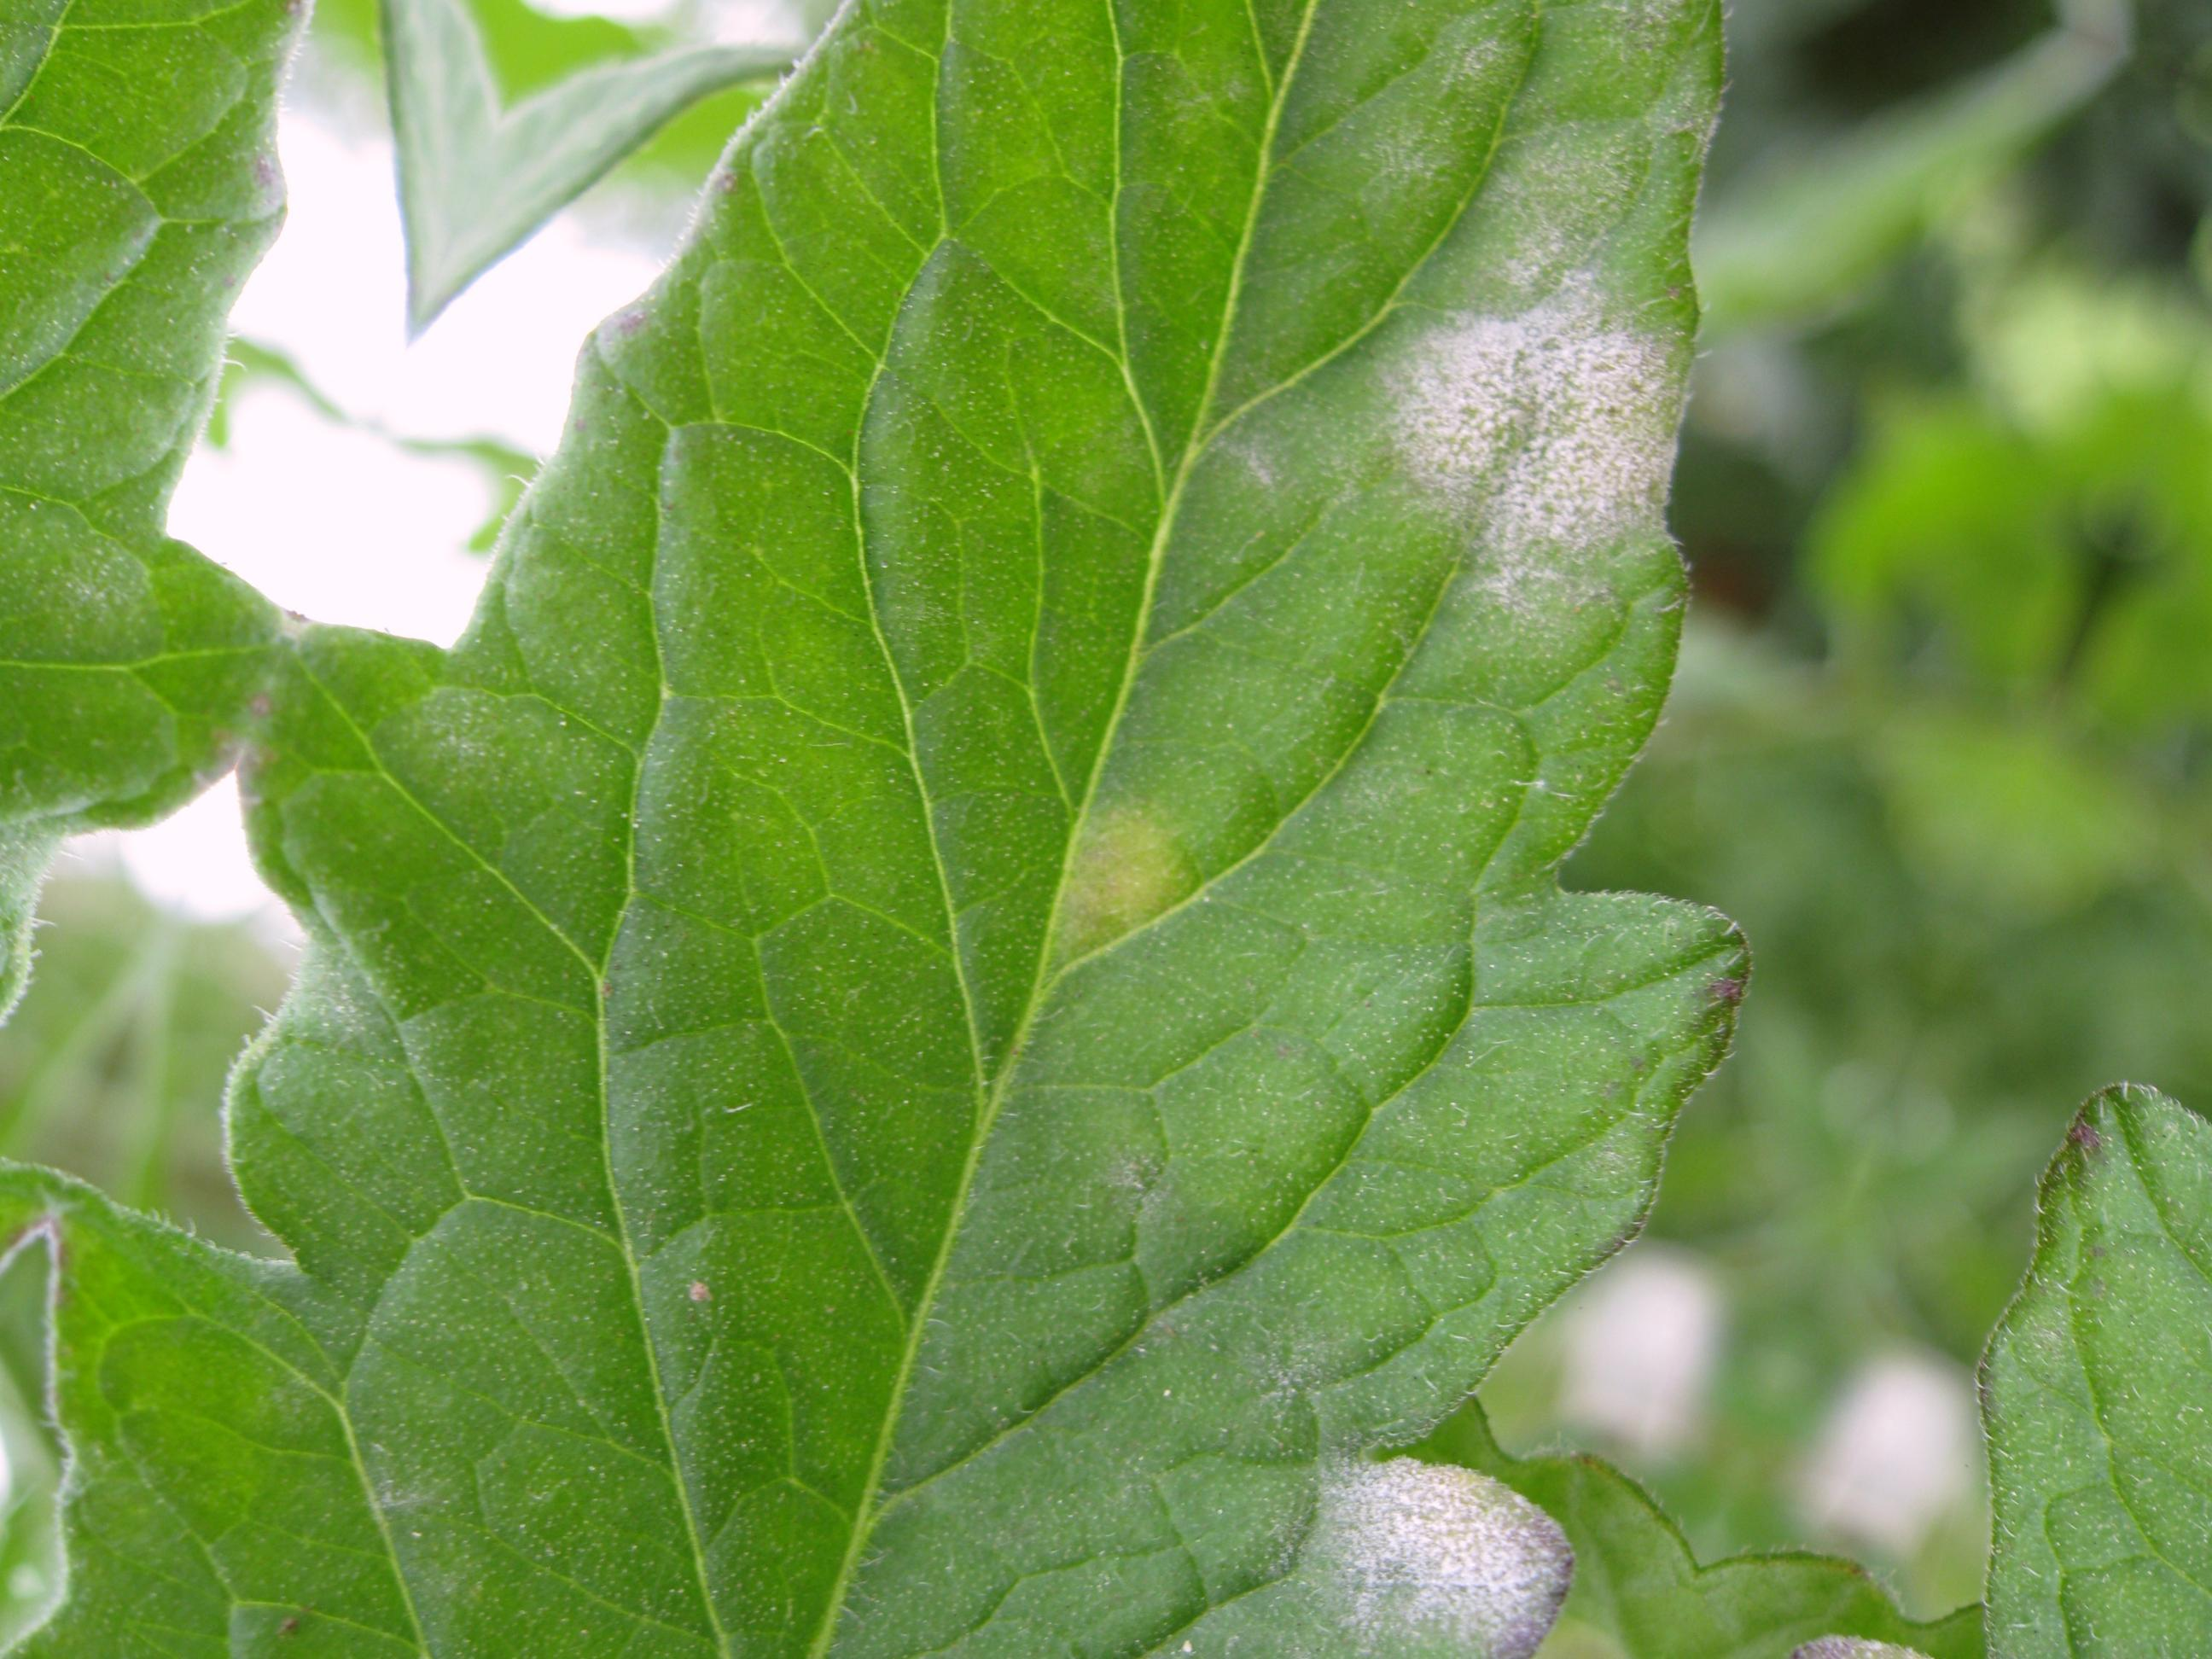Tomato mold leaf: (0, 0, 2206, 1659)
